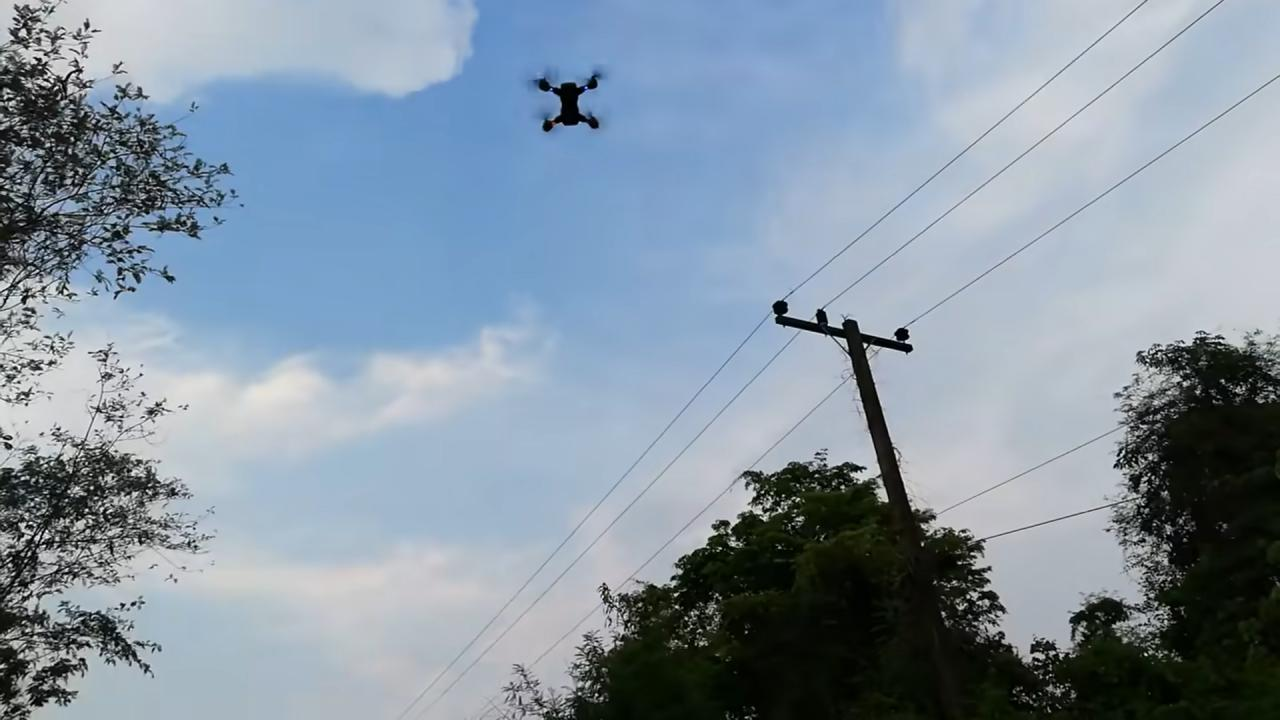Drone: (519, 53, 622, 144)
